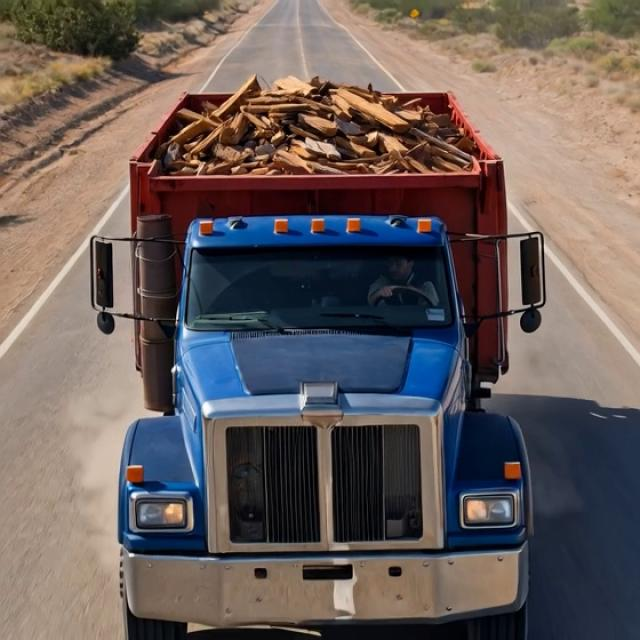Box: (129, 72, 521, 180)
Truck: (70, 55, 556, 628)
